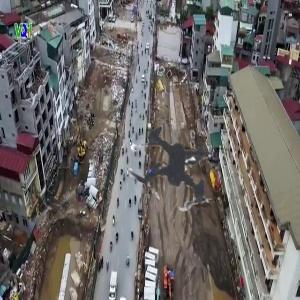drone: (48, 48, 297, 297)
